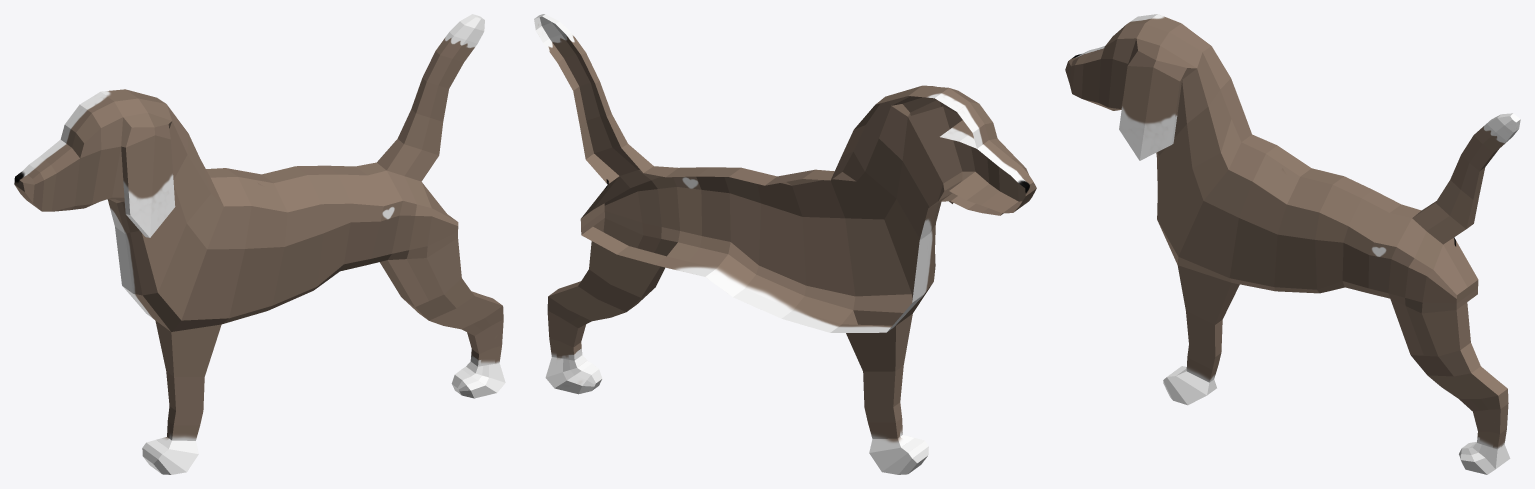
File: dogblender.glb
The picture shows the model from 3 angles, left to right: view 1: azimuth 30°, elevation 25°; view 2: azimuth 150°, elevation 25°; view 3: azimuth 330°, elevation 25°; orthographic projection. The views are drawn at different scales.
Visible parts, largest first — view 1: dog; view 2: dog; view 3: dog.
Boxes of the visible parts, left/top/right/bottom form: dog: left=14, top=14, right=505, bottom=474; dog: left=534, top=14, right=1036, bottom=474; dog: left=1065, top=14, right=1520, bottom=474.
Size of the model in its own units: 0.5936 by 0.4553 by 0.0773.
1 material, 1 textured.
